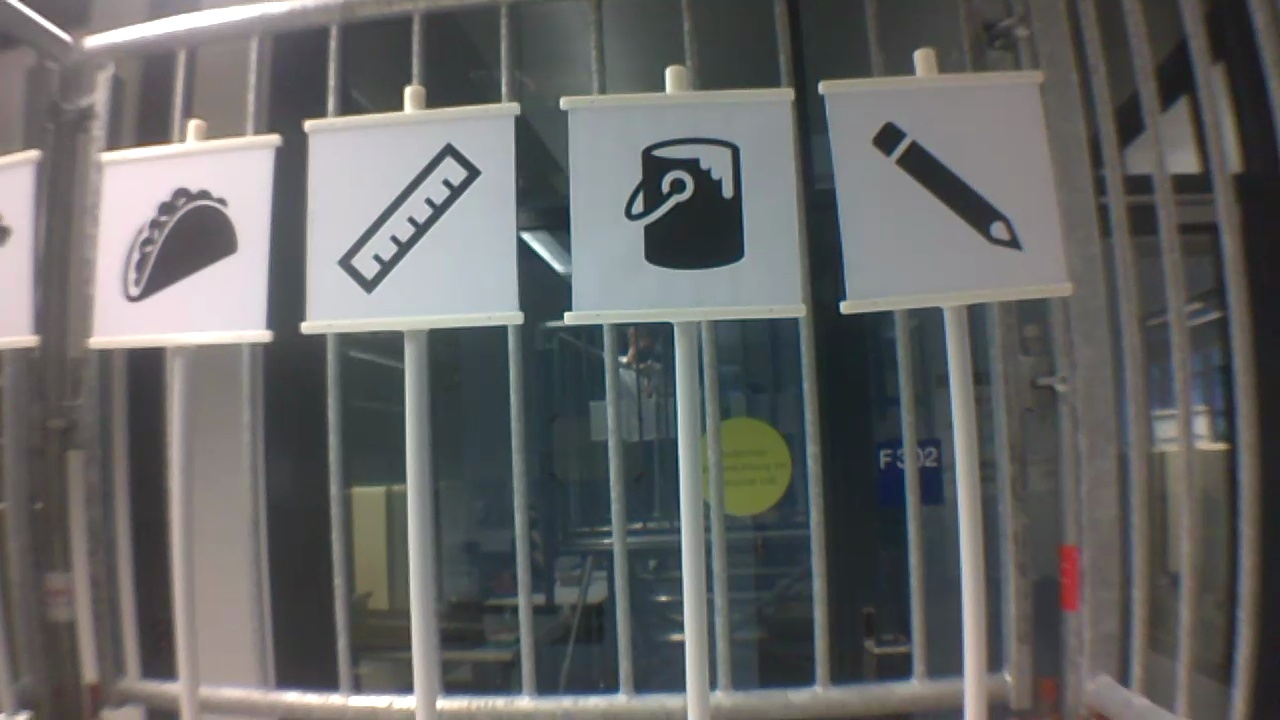bucket: (616, 135, 750, 274)
pencil: (858, 117, 1031, 261)
ruler: (324, 137, 488, 298)
taco: (117, 185, 242, 304)
